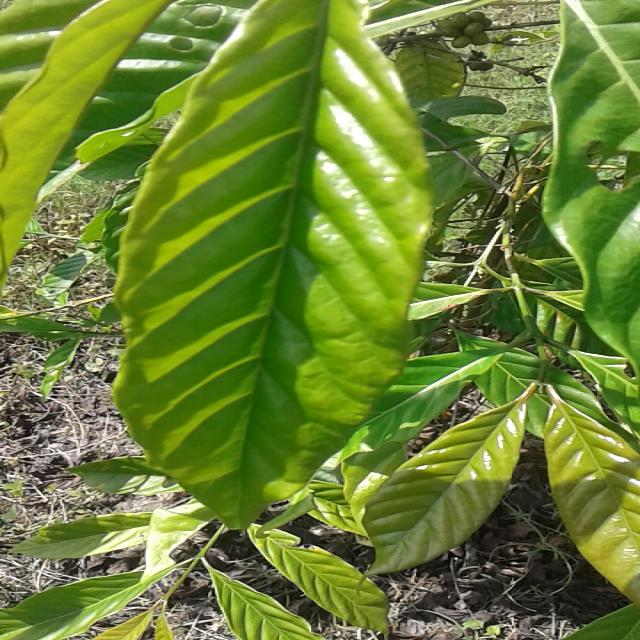Sanas: (111, 0, 431, 532)
